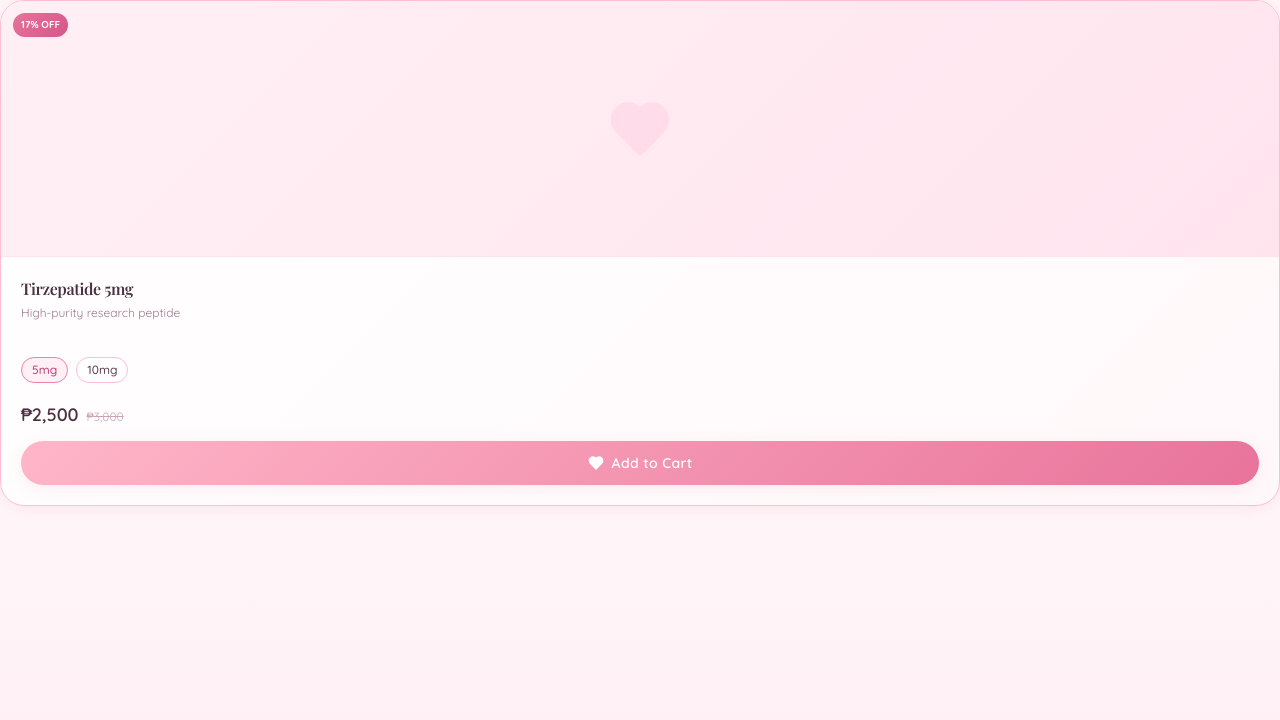
Test: MenuItemCard Component › Variations › updates price when switching variation
Check: the text "₱2,500" is shown, box [21, 401, 78, 429]
# Click 10mg variation
Click the button "10mg" at (102, 370), box [76, 357, 128, 383]
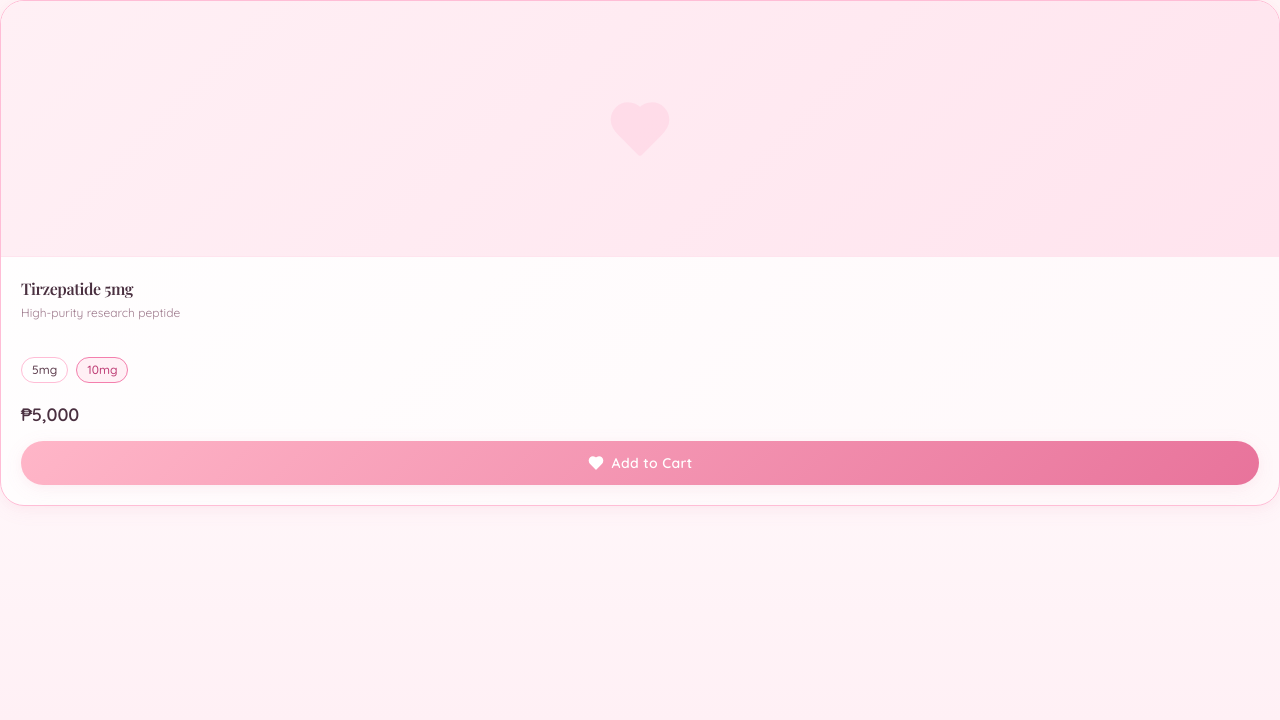
Check: the text "₱5,000" is shown, box [21, 401, 79, 429]
